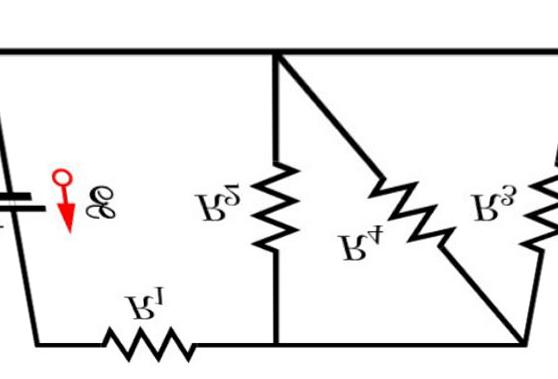resistor: (353, 148, 458, 245), (247, 145, 310, 269), (83, 319, 212, 367), (536, 134, 557, 258)
